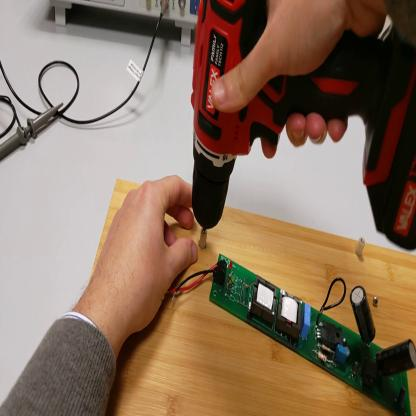electric screwdriver: (192, 2, 416, 252)
hand: (209, 1, 370, 160), (93, 175, 200, 334)
high voltage board: (167, 253, 416, 416)
oscilloscope: (48, 2, 205, 49)
oscilloscope probe tip: (2, 86, 68, 164)
working area: (97, 176, 416, 416)
